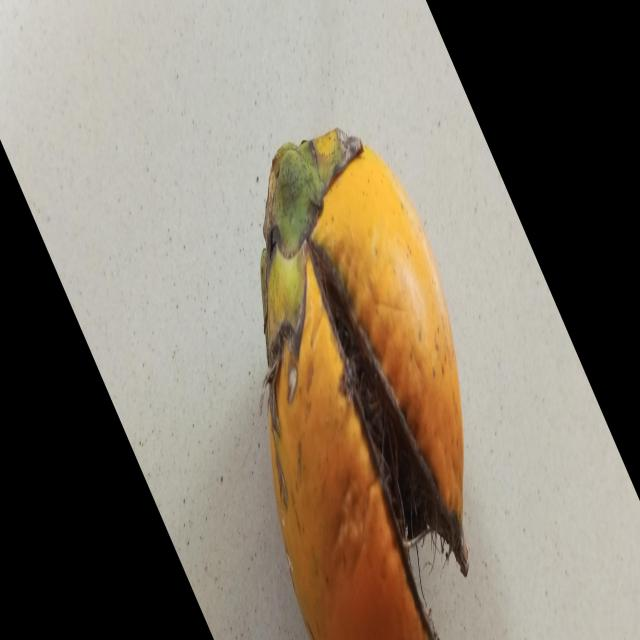damaged: (260, 130, 469, 640)
